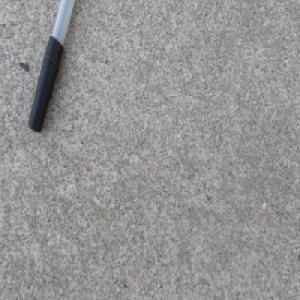Pen: (26, 0, 76, 134)
